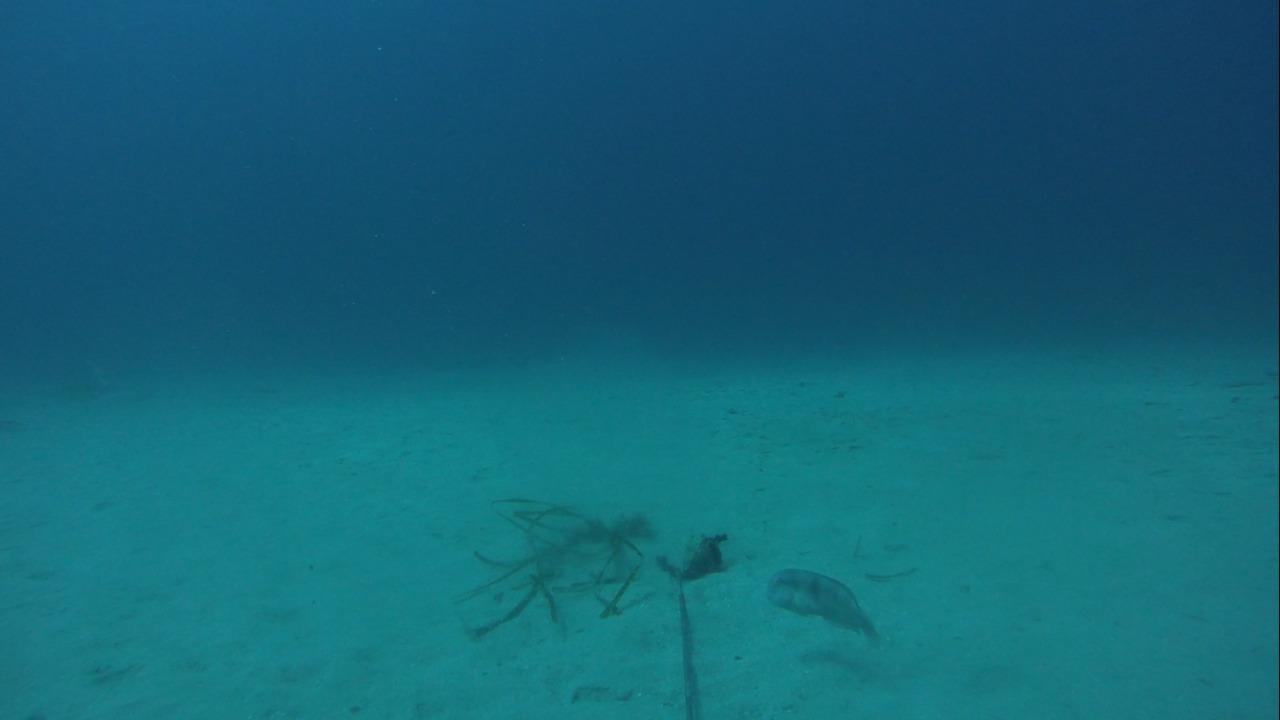raor: (756, 563, 881, 642)
